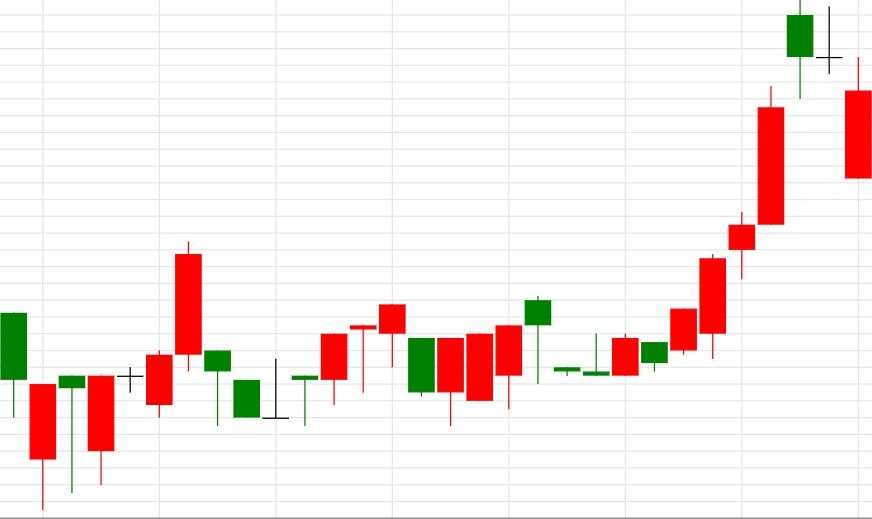hanging_man_fall: (408, 296, 552, 427)
